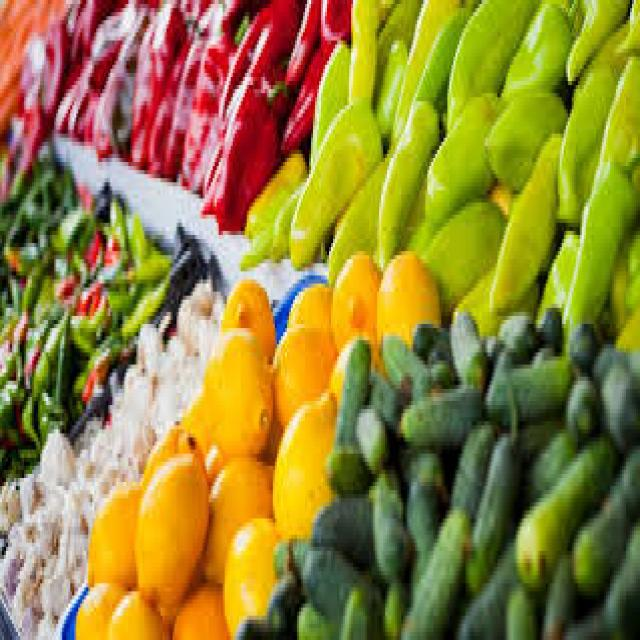Wet: (426, 120, 564, 288), (507, 454, 640, 578), (133, 456, 209, 623), (496, 365, 625, 459), (19, 248, 104, 390), (408, 498, 470, 640), (300, 544, 400, 630), (244, 175, 340, 263), (394, 379, 492, 464), (303, 112, 402, 194), (236, 13, 288, 165), (279, 384, 333, 530), (134, 2, 180, 165), (204, 332, 268, 446), (190, 11, 228, 202), (275, 320, 335, 419), (89, 481, 143, 585), (384, 249, 442, 345), (402, 94, 440, 226), (331, 249, 375, 350), (286, 282, 338, 335), (226, 281, 266, 347)
